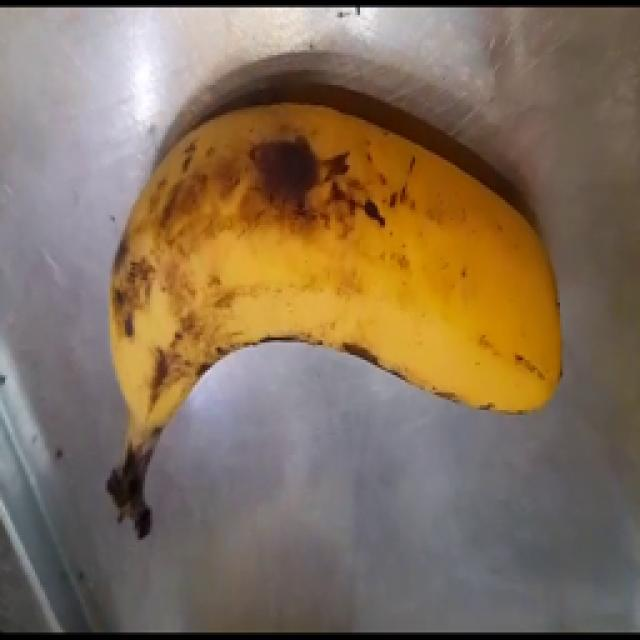Rotten_Banana: (110, 69, 616, 472)
